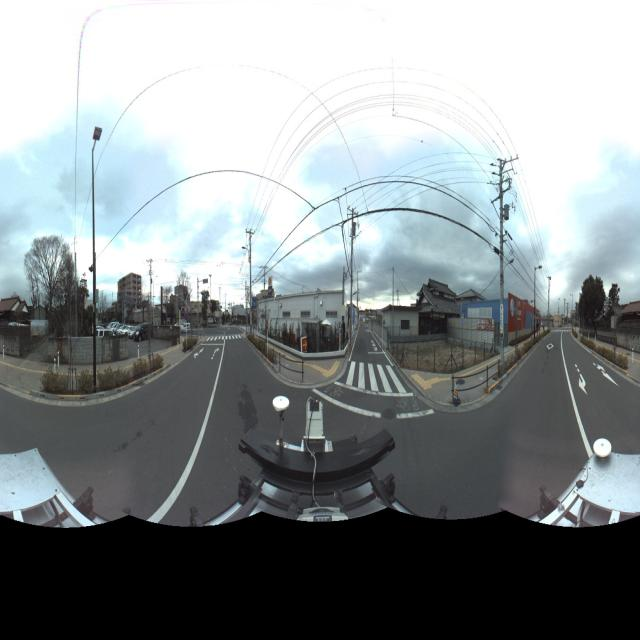b_1: (253, 292, 349, 342), (112, 272, 146, 324), (419, 278, 459, 320)
